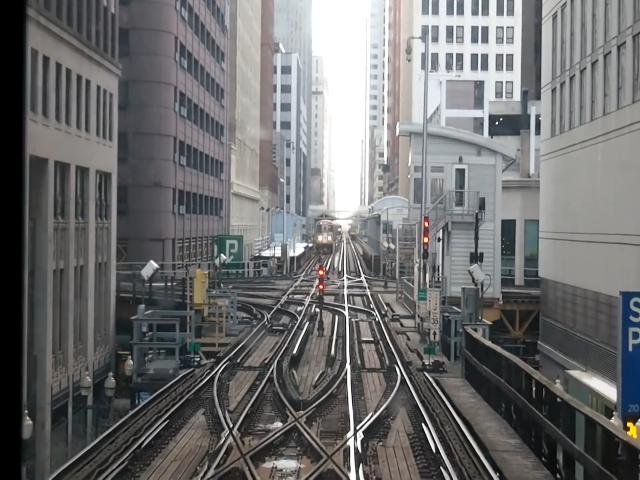signal light: (319, 266, 326, 312), (424, 217, 430, 263)
